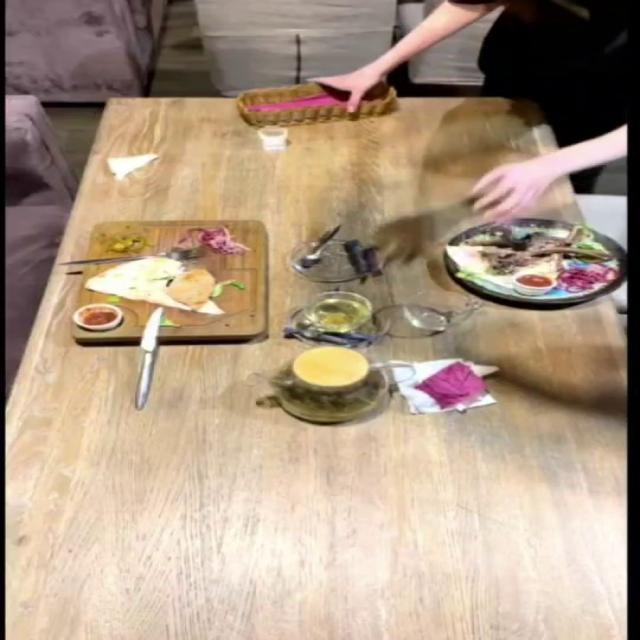meat: (67, 218, 271, 347), (444, 216, 621, 302)
tea: (260, 334, 406, 418)
